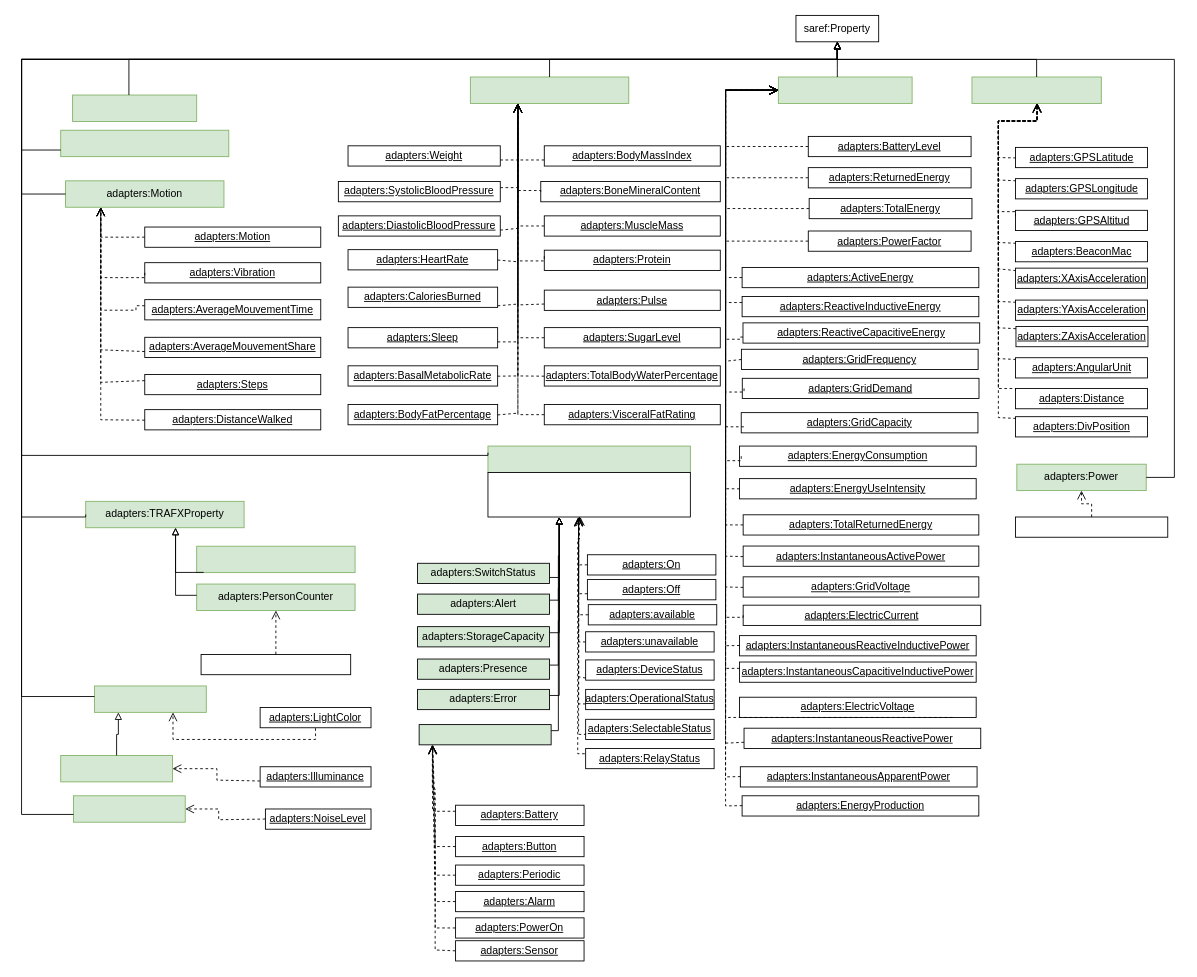
The diagram is 1197 pixels wide and 977 high, and some of its shapes have lost their labels. The box of each missing label's shape, as (x1, y1, x2, y2) in pixels:
adapters:AccumulatedPercipitation: (60, 129, 229, 157)
adapters:ActReason: (418, 724, 551, 745)
adapters:EnergyProperty: (777, 76, 912, 103)
adapters:ExtPower: (1015, 516, 1168, 537)
adapters:GeneratorCounter: (196, 545, 355, 573)
adapters:HealthProperty: (469, 76, 629, 103)
adapters:HourlyPersonCounter: (200, 654, 351, 675)
adapters:LightProperty: (94, 685, 206, 712)
adapters:LuminusFlux: (60, 755, 172, 782)
adapters:SoilMoisture: (72, 94, 197, 121)
adapters:Sound: (73, 795, 185, 822)
adapters:SpaceProperty: (971, 76, 1101, 103)
adapters:StatusProperty: (487, 445, 690, 472)
adapters:title:String adapters:dateLastStatusUpdate: dateTime: (487, 472, 690, 517)
